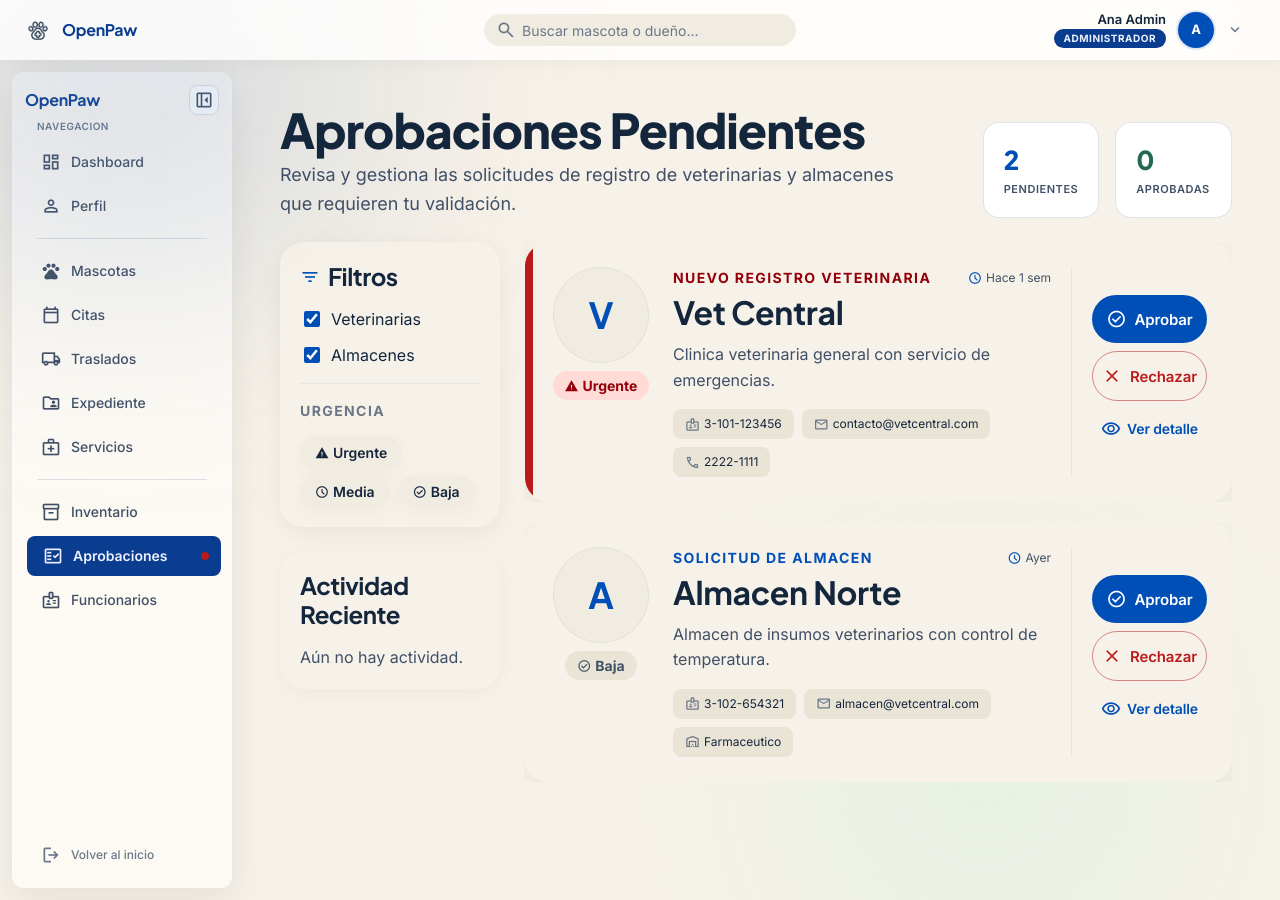
Test: ApprovalsListPage - feed de cards con urgencia y animacion (T33) › chips de urgencia filtran el feed (aria-pressed)
Expected: the heading "Almacen Norte" is shown, [673,572,901,612]
Click the button "Urgente": (351, 453) [300,437,402,468]
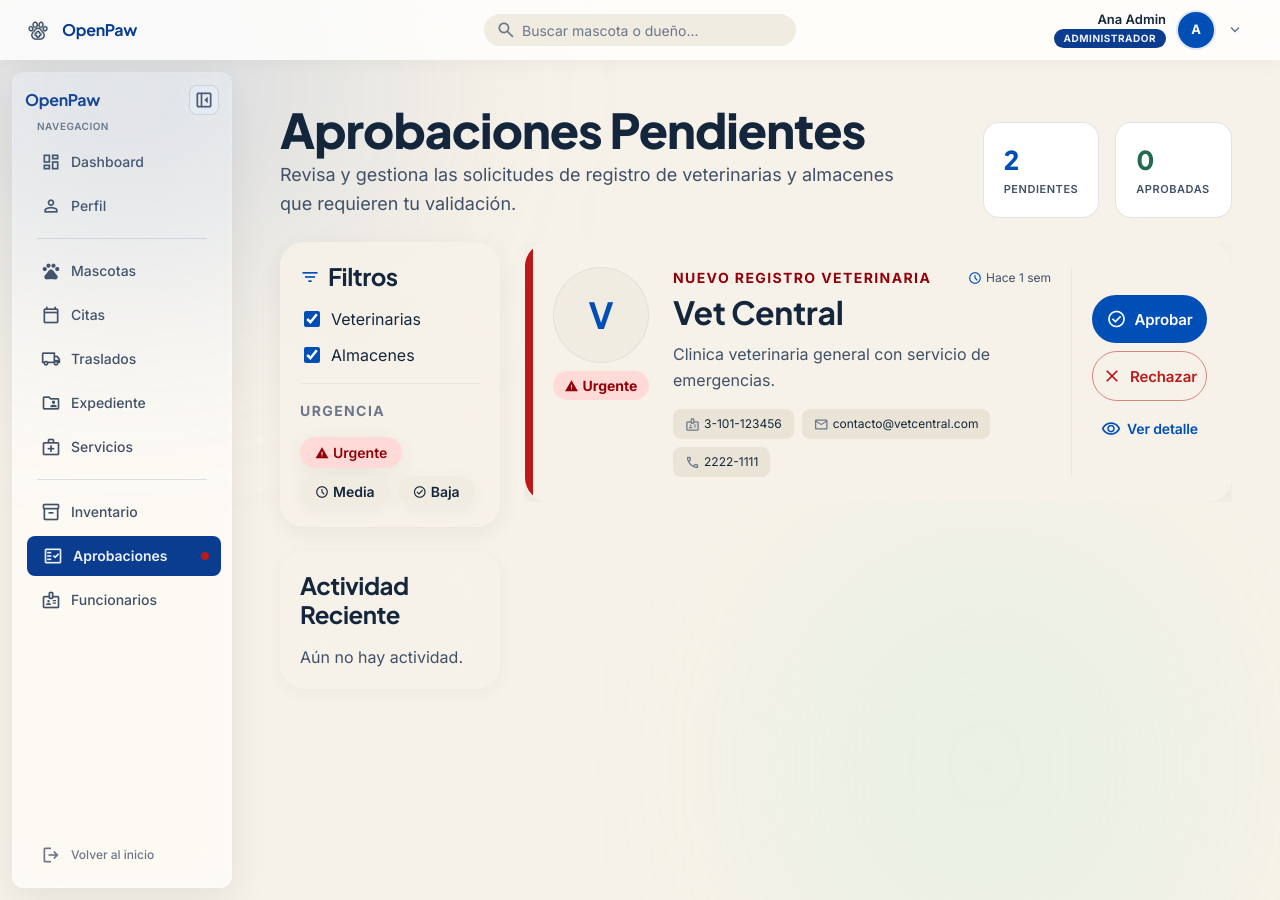
Expected: the heading "Vet Central" is shown, [673,292,844,332]
Expected: the heading "Almacen Norte" is gone
